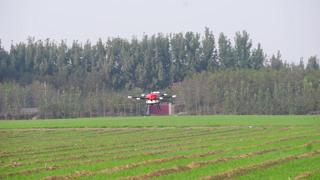UAV: (128, 91, 176, 114)
